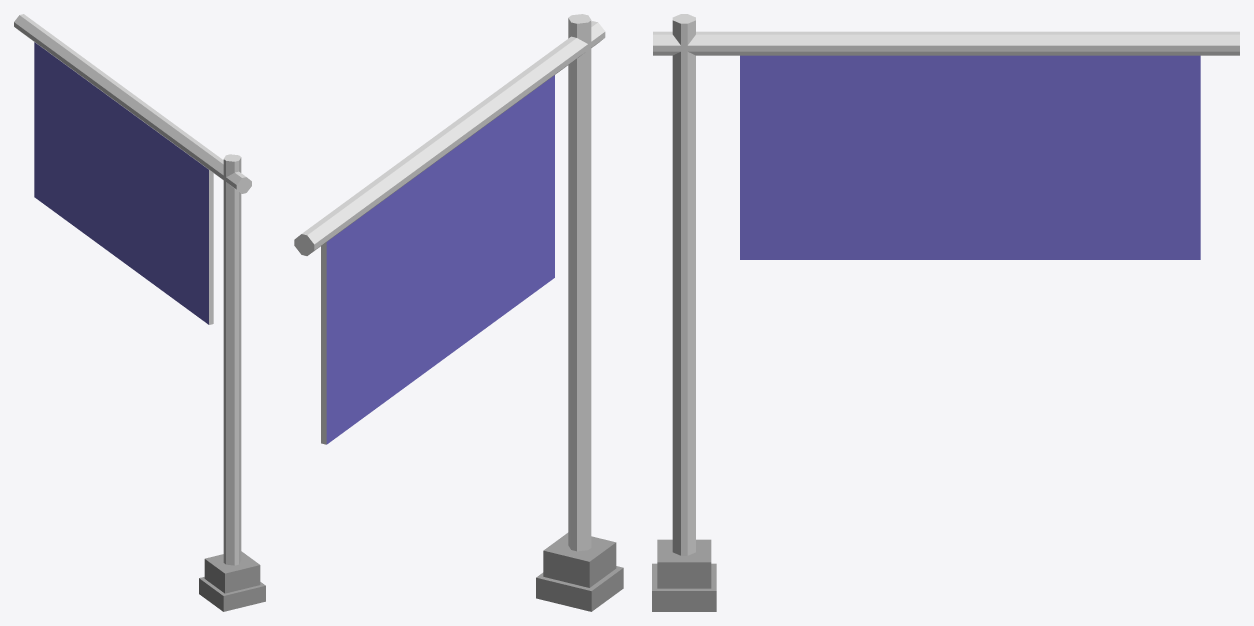
The model's file is Billboard 1.2 1.fbx.
3 renders of one model, left to right at view 1: azimuth 30°, elevation 25°; view 2: azimuth 150°, elevation 25°; view 3: azimuth 270°, elevation 25°, orthographic. The views are drawn at different scales.
Parts seen in each view (by area): view 1: Billboard_2.001; view 2: Billboard_2.001; view 3: Billboard_2.001.
Boxes of the visible parts, <box> form: Billboard_2.001: <box>14,14,265,611</box>; Billboard_2.001: <box>294,14,623,611</box>; Billboard_2.001: <box>652,14,1239,611</box>.
Bounding box in the file's own units: 65.29 × 646 × 594.
